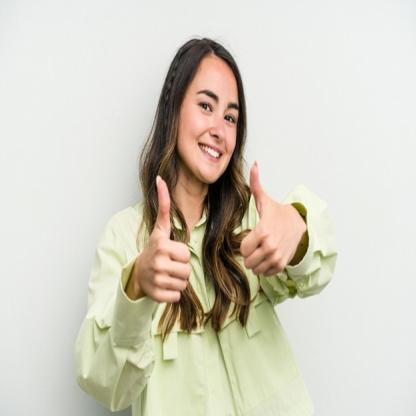thumb_up: (137, 172, 192, 304), (238, 159, 294, 277)
